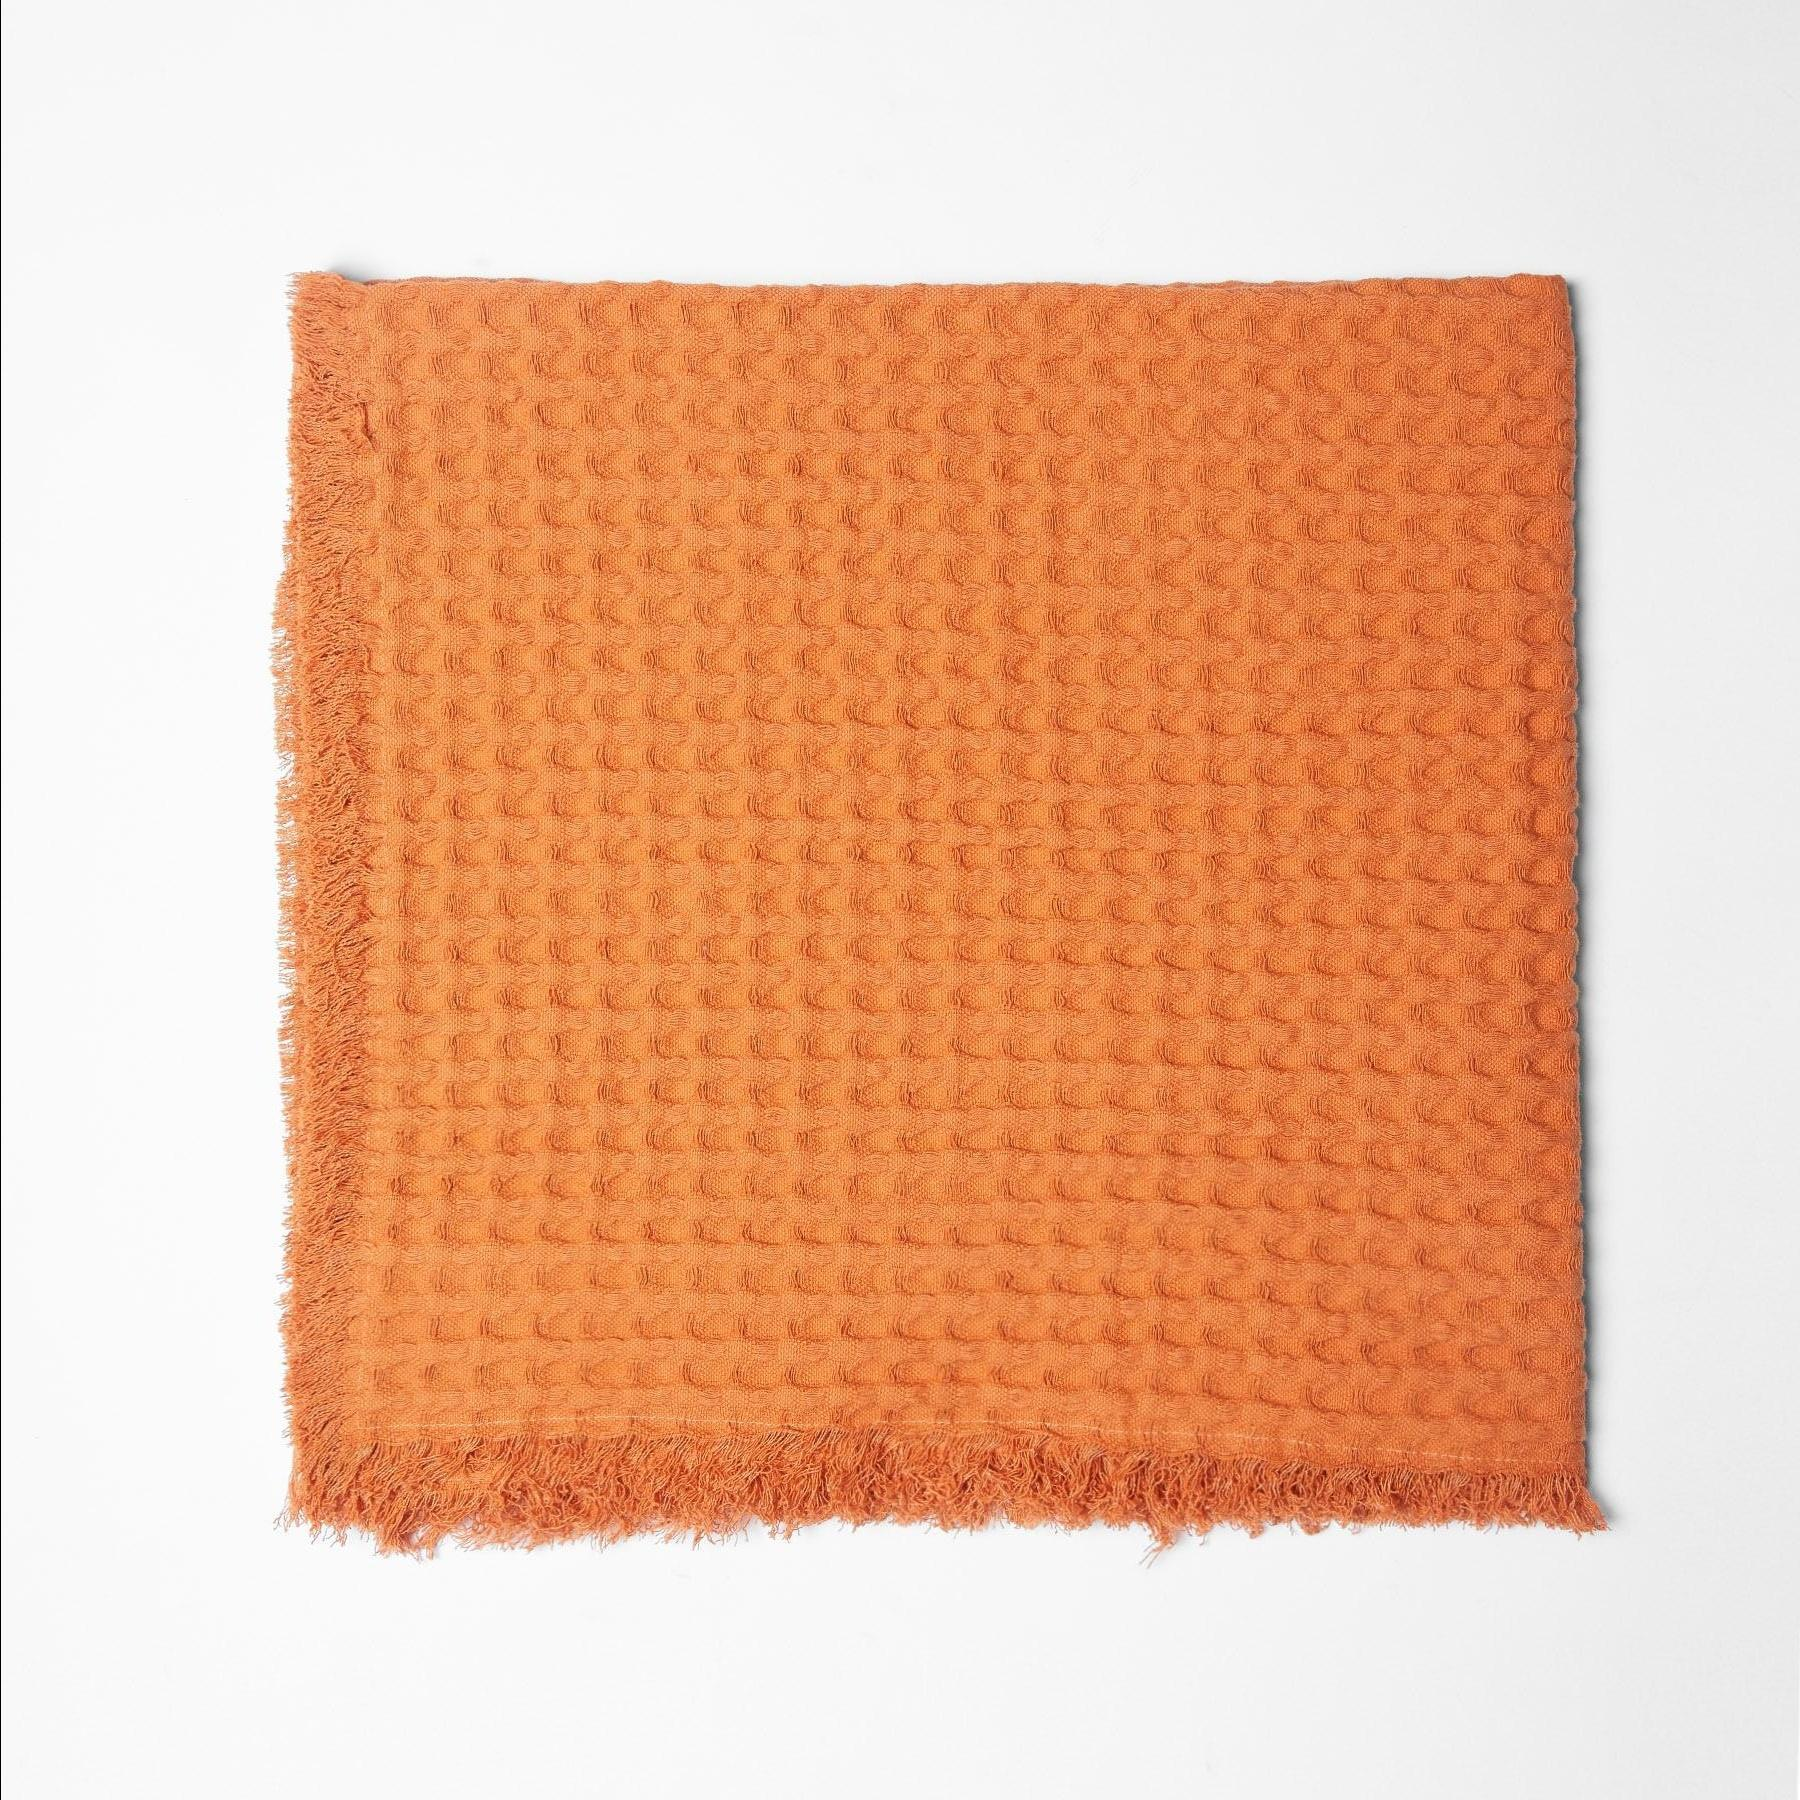towel: (226, 214, 1650, 1601)
